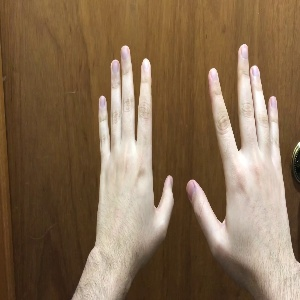hand: (186, 45, 295, 264), (97, 46, 174, 258)
